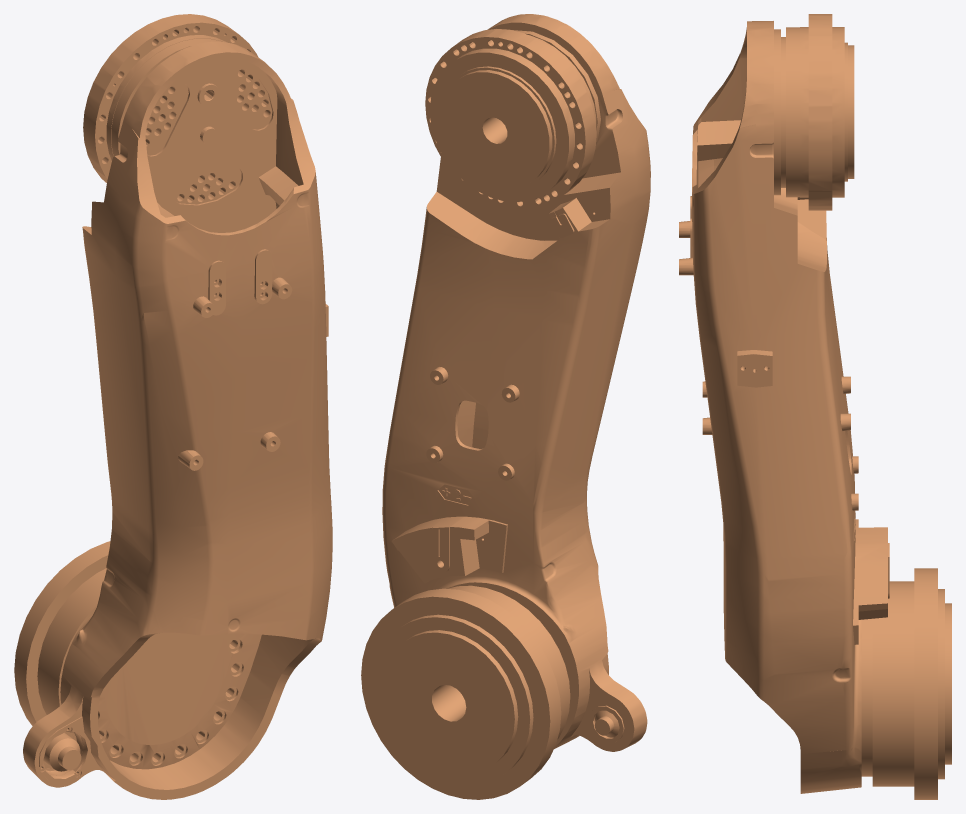
3 views of the same model, side by side, from view 1: azimuth 30°, elevation 25°; view 2: azimuth 150°, elevation 25°; view 3: azimuth 270°, elevation 25° (orthographic). The views are drawn at different scales.
Parts seen in each view (by area): view 1: link_2; view 2: link_2; view 3: link_2.
Part boxes in pixels (x1=…): link_2: x1=14, y1=14, x2=332, y2=799; link_2: x1=361, y1=14, x2=650, y2=799; link_2: x1=679, y1=14, x2=951, y2=799.
Bounding box in the file's own units: 0.5283 × 0.465 × 1.44.
